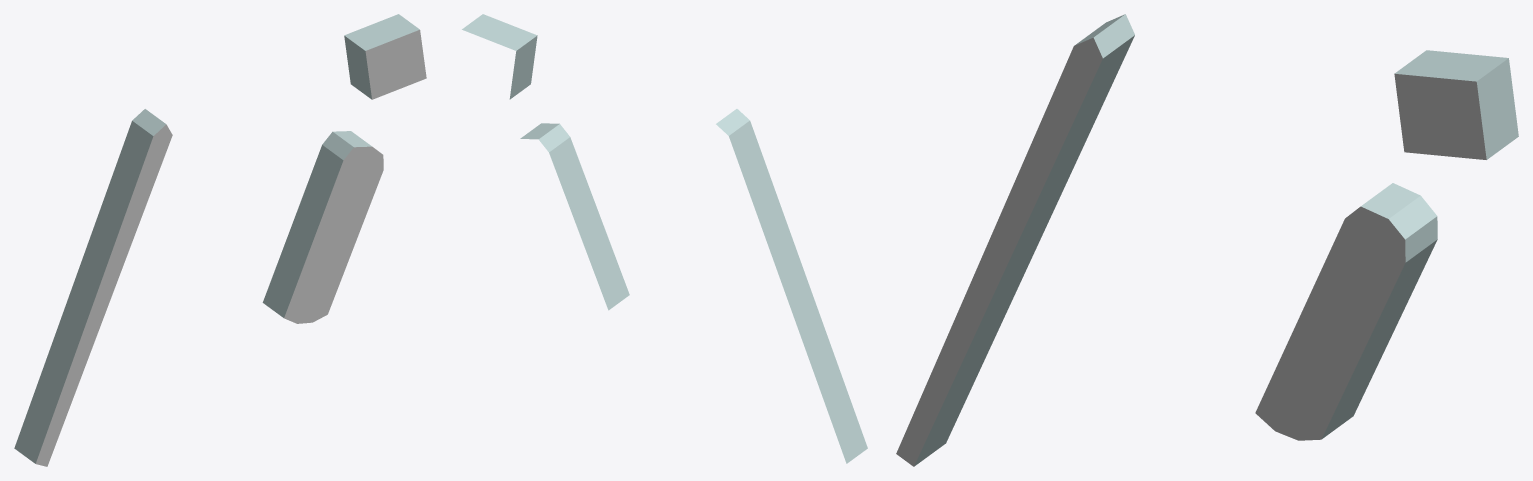
The picture shows the model from 3 angles, left to right: view 1: azimuth 30°, elevation 25°; view 2: azimuth 150°, elevation 25°; view 3: azimuth 330°, elevation 25°; orthographic projection. The views are drawn at different scales.
Visible parts, largest first — view 1: 0_2_2_3_2_3_2_1_0; view 2: 0_2_2_3_2_3_2_1_0; view 3: 0_2_2_3_2_3_2_1_0.
Boxes of the visible parts, x1=… form: 0_2_2_3_2_3_2_1_0: x1=14, y1=14, x2=426, y2=466; 0_2_2_3_2_3_2_1_0: x1=462, y1=14, x2=867, y2=463; 0_2_2_3_2_3_2_1_0: x1=896, y1=14, x2=1518, y2=466.
Size of the model in its own units: 31.75 by 26.85 by 3.75.
